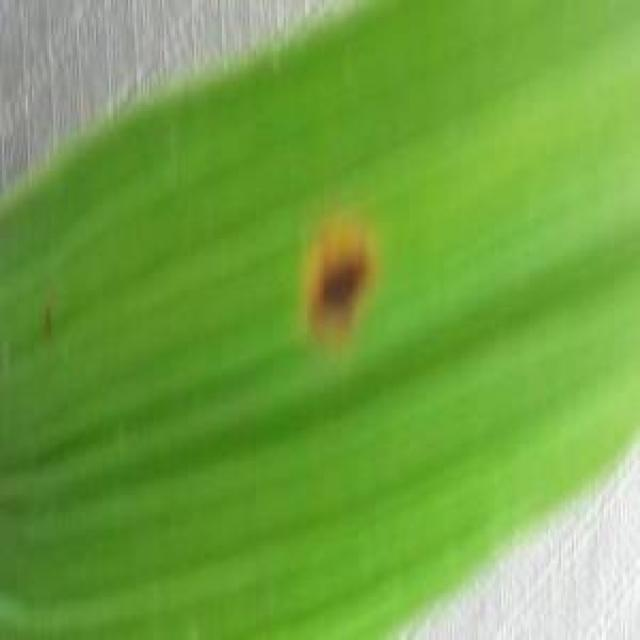Brown_Spot: (283, 225, 404, 358)
